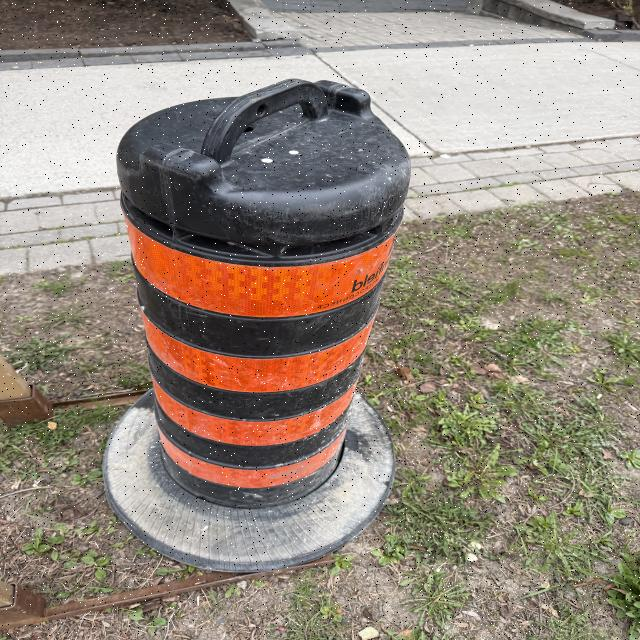Teraffic Barrel: (105, 80, 410, 570)
